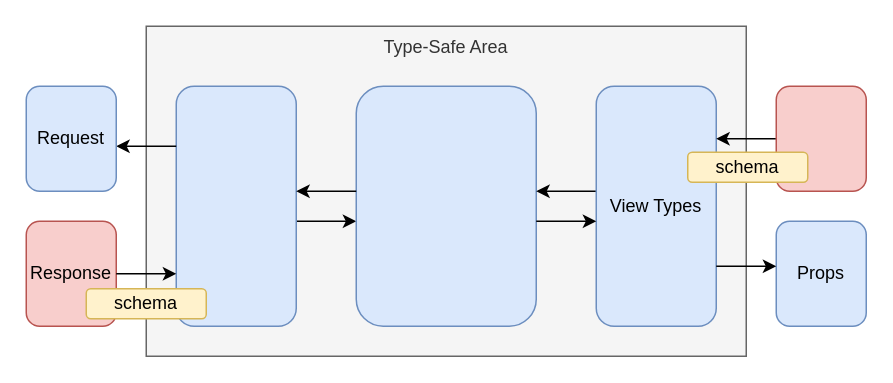
Some shapes in this 893 by 383 pixel diagram are drawn without their labels. The centre of each missing label's shape, as x and y in pixels:
"API Types" belongs at (x=235, y=205).
"Domain Types" belongs at (x=445, y=205).
"Event" belongs at (x=820, y=138).
